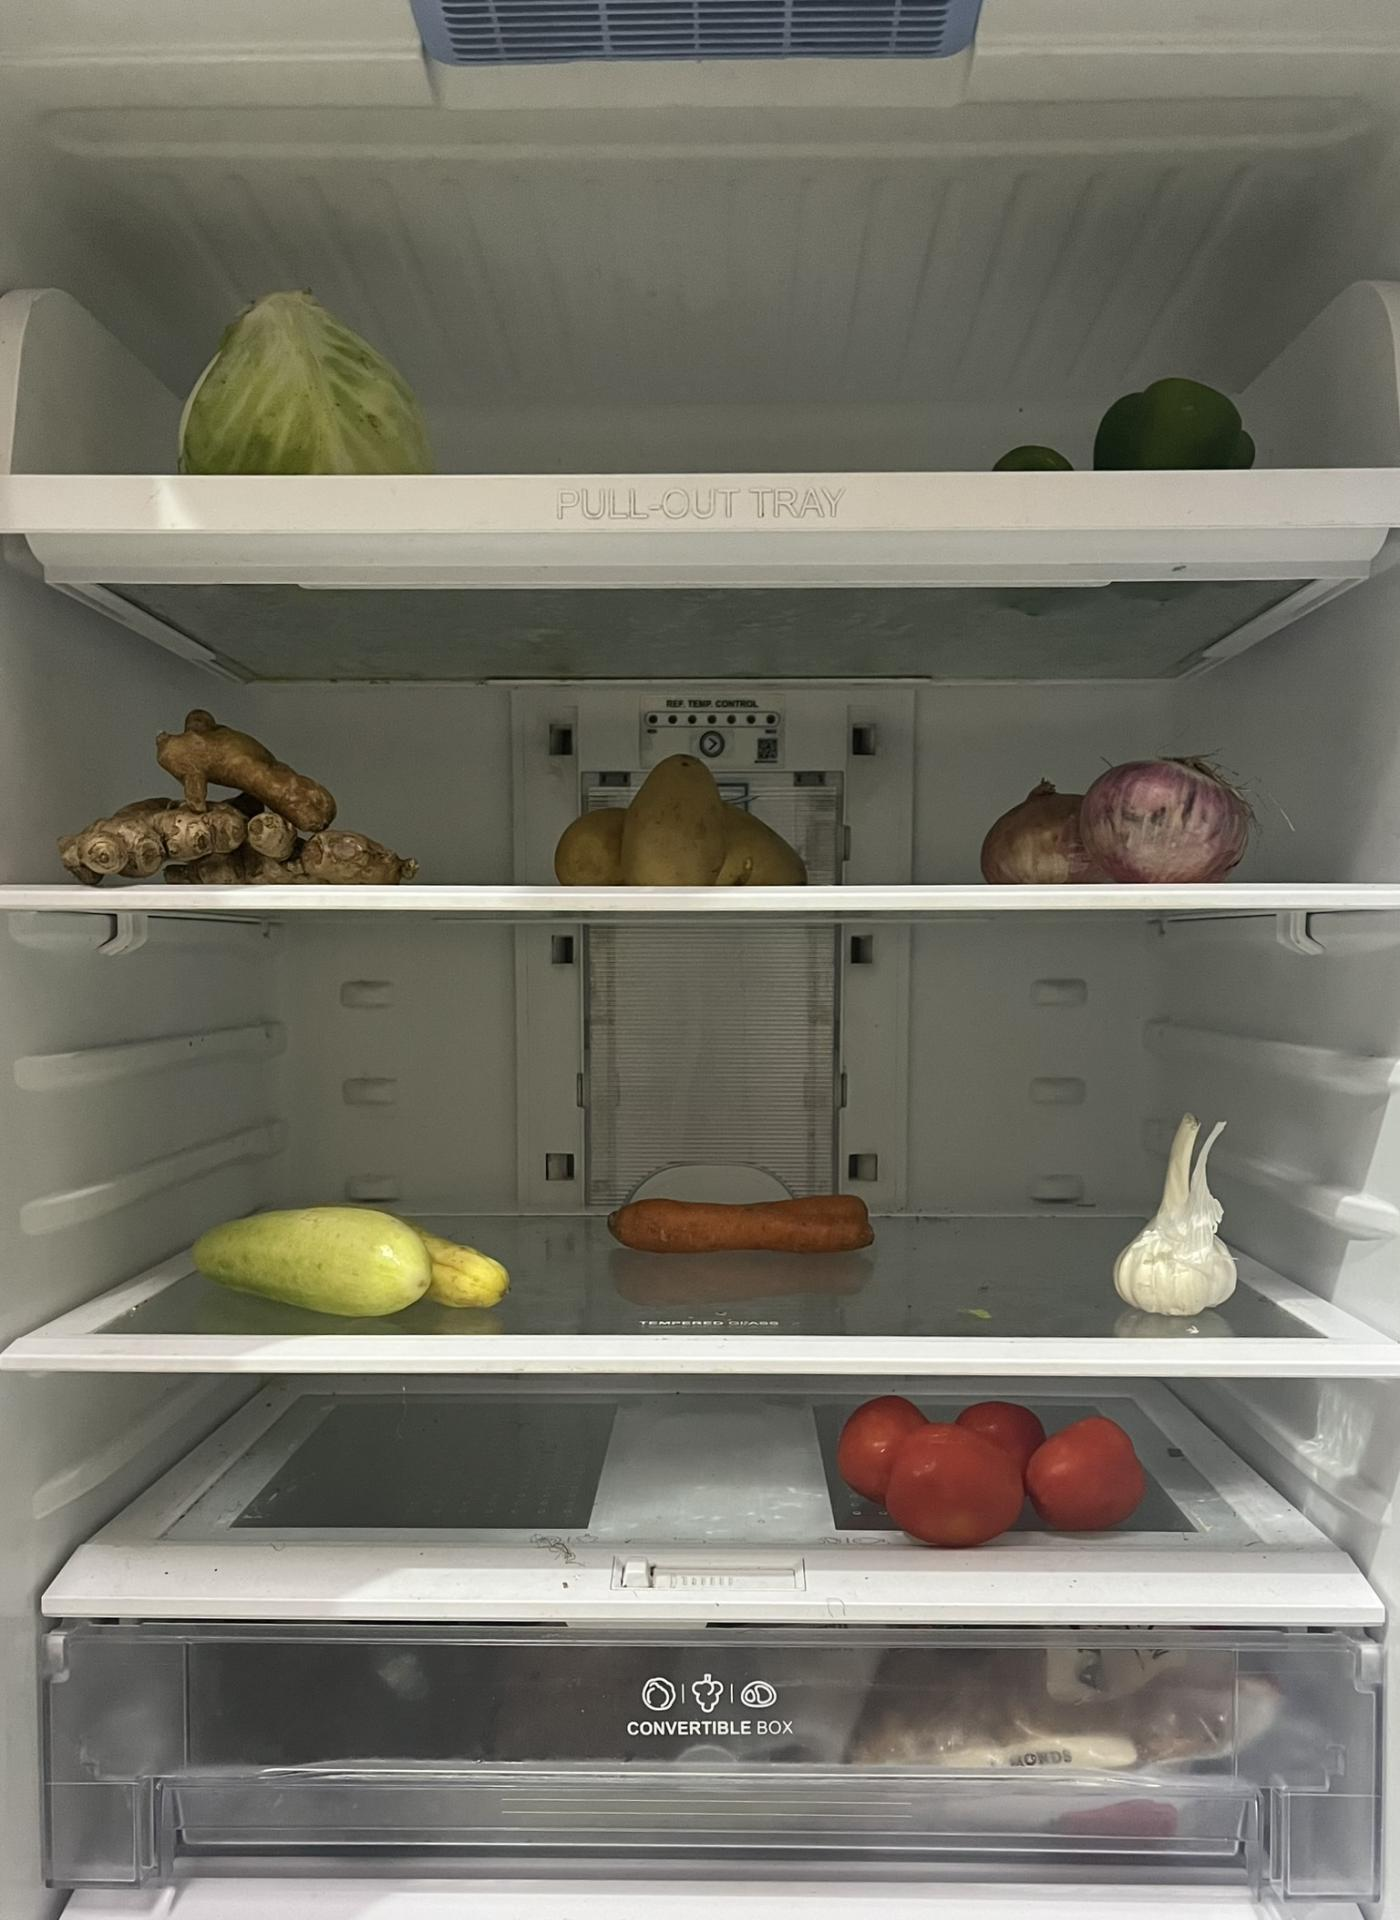capsicum: (1087, 362, 1251, 462)
carrots: (605, 1188, 869, 1257)
cucumber: (176, 1203, 513, 1316)
garlic: (1121, 1109, 1243, 1309)
ginger: (67, 790, 413, 884), (137, 698, 343, 821)
lettuce: (170, 271, 441, 479)
onion: (987, 747, 1258, 887)
potato: (541, 747, 823, 884)
tomato: (823, 1385, 1154, 1541)
